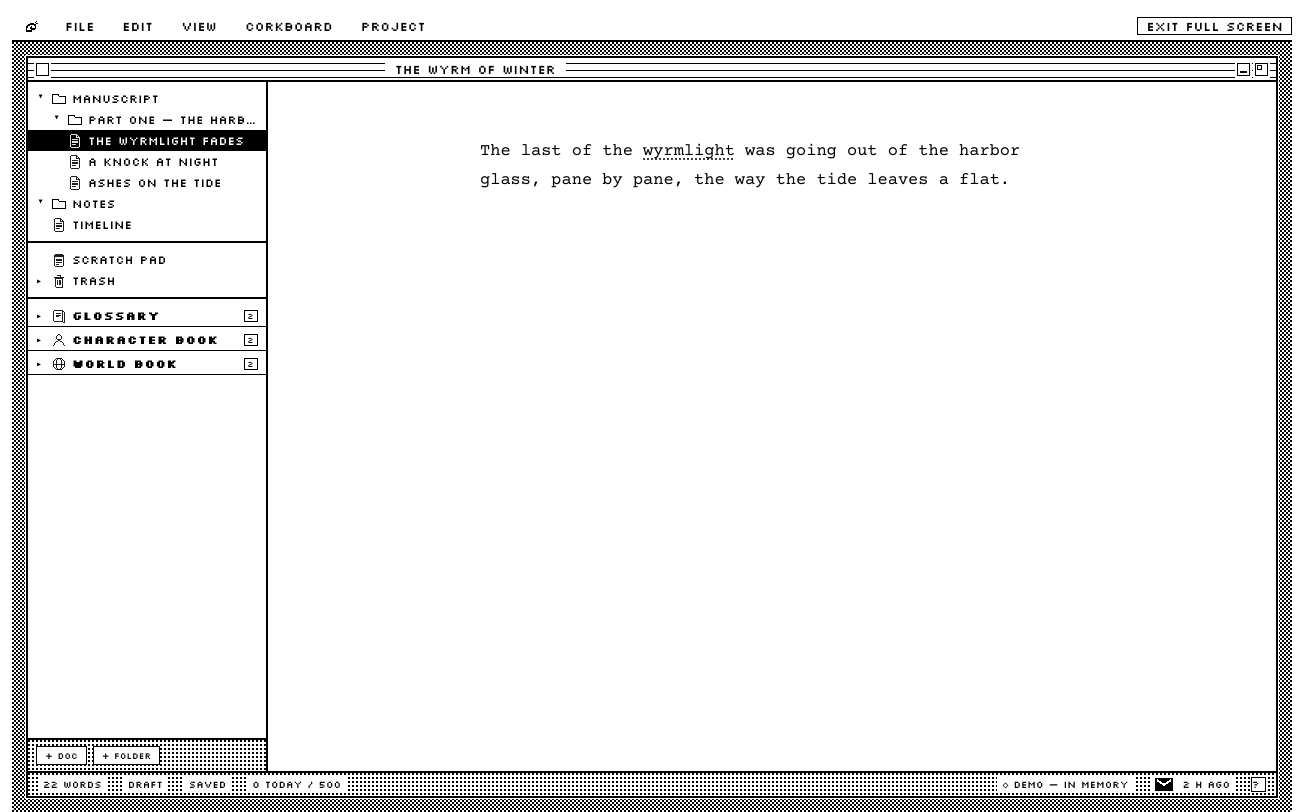
Test: the way out of full screen › appears in the menu bar only while full screen, and leaves it
Click the button "Exit Full Screen".
click(1215, 26)  # box top-left (1138, 17), bottom-right (1292, 35)
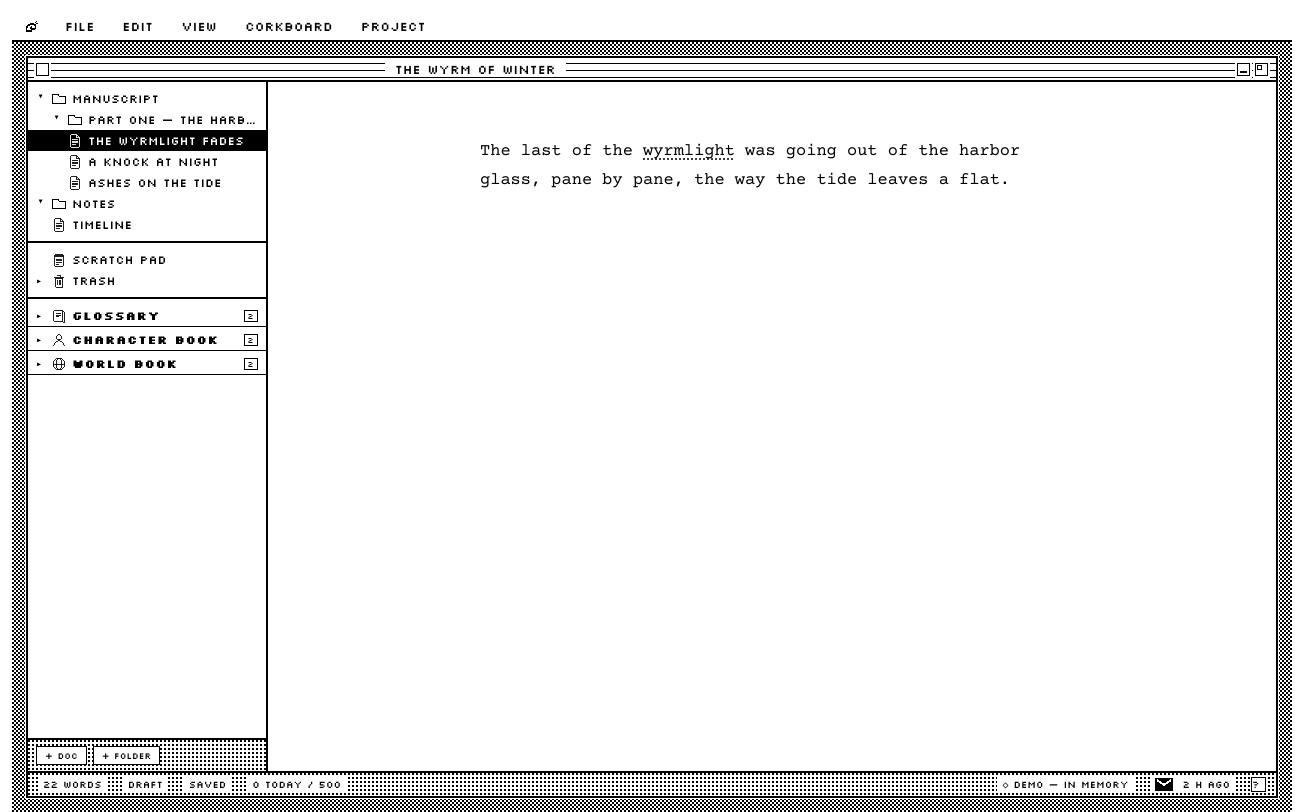
Now the button "Exit Full Screen" is gone
